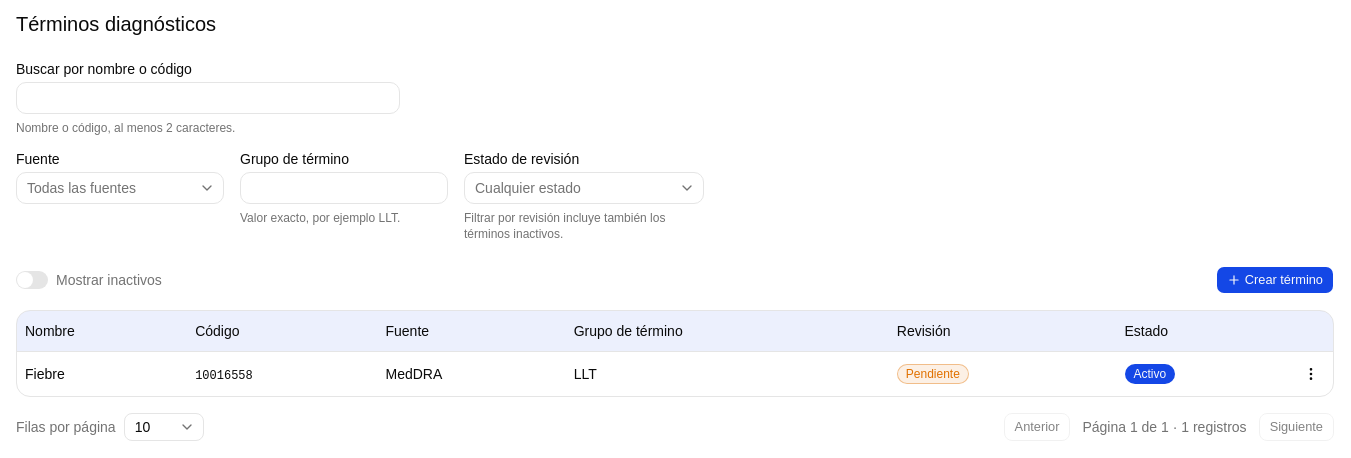
DiagnosticTermListPage — reviewStatus ↔ includeInactive (SPEC FE25b §3.4) › elegir «Pendiente» pone includeInactive=true y la petición va al 002B con reviewStatus
The image size is (1351, 458).
Click the dropdown named "Estado de revisión" at (584, 188), box [464,172,704,204]
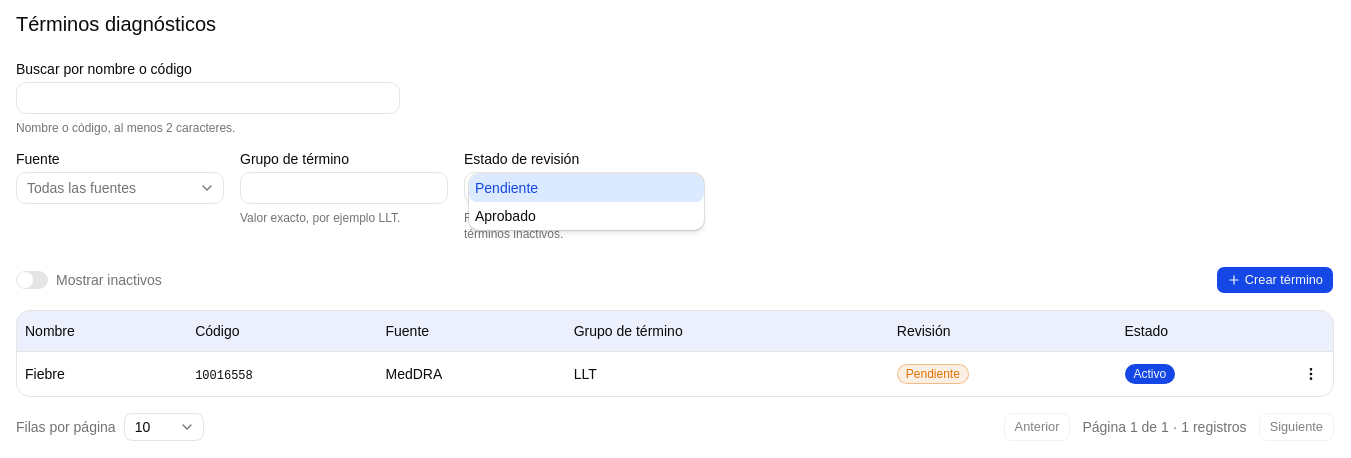
Click the option "Pendiente" at (586, 188), box [469,174,704,202]
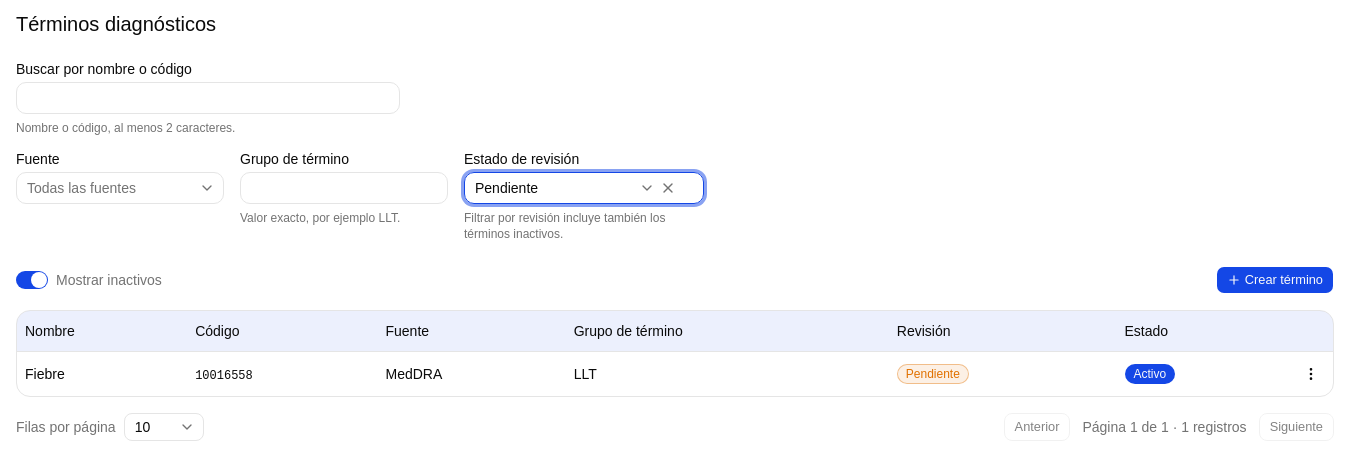
Result: the switch named "Mostrar inactivos" is checked at [16,271,48,289]
